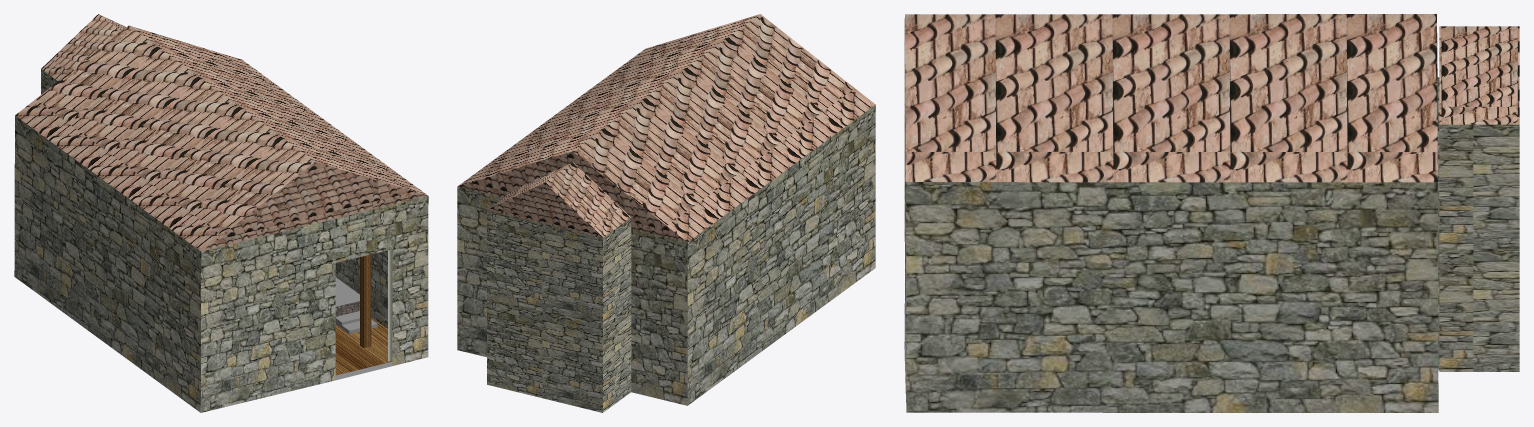
File: Mithra.FBX
3 views of the same model, side by side, from view 1: azimuth 30°, elevation 25°; view 2: azimuth 150°, elevation 25°; view 3: azimuth 270°, elevation 25° (orthographic). The views are drawn at different scales.
Visible parts, largest first — view 1: Plane001, Mithraeum In, Plane002, Pillar Right Nave, Right Bench; view 2: Plane001, Plane002; view 3: Plane001, Plane002, Mithraeum In.
Part boxes in pixels (x1,y1,x2,y2): Plane001: (14,25,428,412); Mithraeum In: (335,249,392,375); Plane002: (41,14,126,94); Pillar Right Nave: (360,254,371,347); Right Bench: (335,277,359,316); Plane001: (457,14,875,405); Plane002: (487,162,631,412); Plane001: (904,14,1438,412); Plane002: (1439,26,1519,371); Mithraeum In: (1437,77,1439,370).
Bounding box in the file's own units: 265 × 249 × 434.
